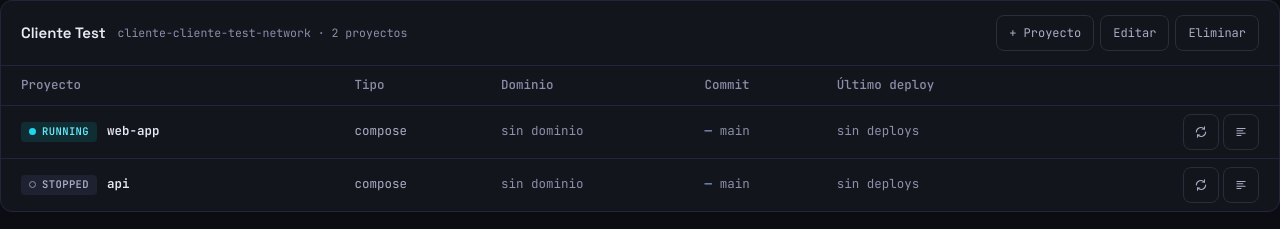
Test: ClientSection › click en Eliminar muestra confirmación
Step 1. Click the button "Eliminar" → (1217, 33), box x1=1175 y1=15 x2=1259 y2=51
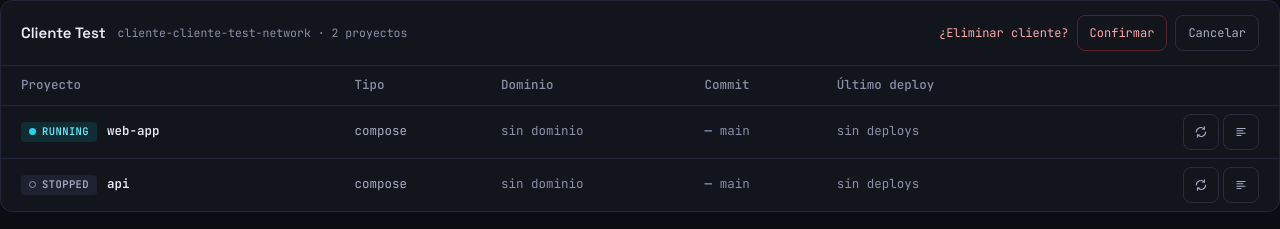
Result: the text "¿Eliminar cliente?" is shown at x1=939 y1=25 x2=1069 y2=41
Result: the button "Confirmar" is shown at x1=1077 y1=15 x2=1167 y2=51
Result: the button "Cancelar" is shown at x1=1175 y1=15 x2=1259 y2=51
